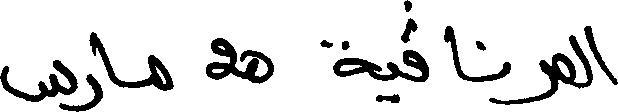X: (0, 55, 75, 111), (513, 50, 553, 108), (585, 21, 617, 91), (405, 0, 429, 86), (91, 27, 114, 111), (206, 33, 240, 84), (333, 36, 367, 81), (242, 45, 273, 88), (445, 21, 463, 84), (150, 50, 173, 95), (77, 35, 89, 111), (555, 32, 569, 96), (571, 30, 583, 93), (501, 57, 511, 109), (389, 57, 396, 107)
